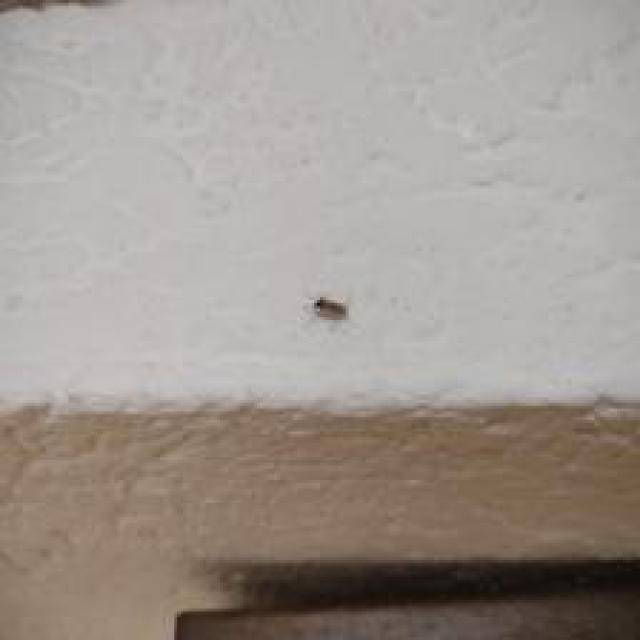Culex: (312, 294, 348, 320)
